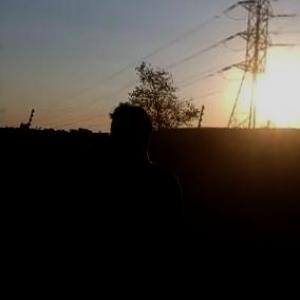follow: (81, 100, 186, 299)
